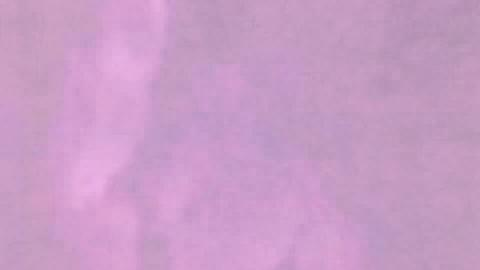tomato: (148, 65, 390, 268), (390, 132, 478, 268)
